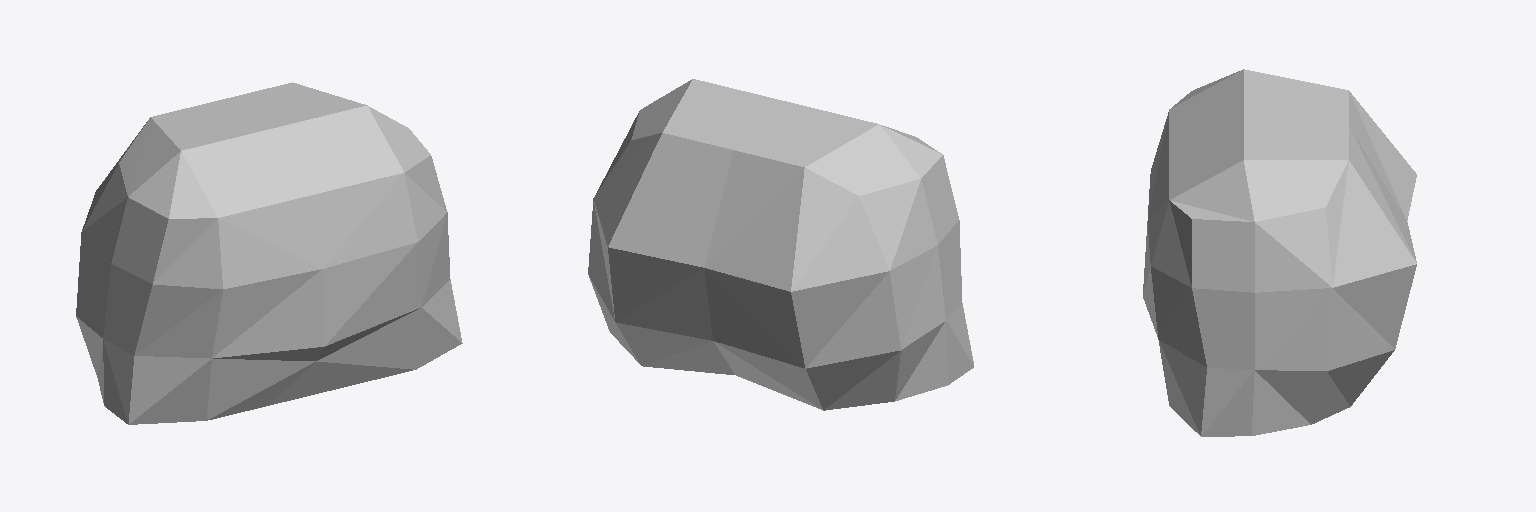
The model's file is bodyunder.obj.
3 views of the same model, side by side, from view 1: azimuth 30°, elevation 25°; view 2: azimuth 150°, elevation 25°; view 3: azimuth 270°, elevation 25° (orthographic).
Parts seen in each view (by area): view 1: pCube6; view 2: pCube6; view 3: pCube6.
Boxes of the visible parts, box(x1,y1,x2,y2) form: pCube6: box(76, 82, 462, 424); pCube6: box(588, 79, 973, 410); pCube6: box(1143, 69, 1416, 436).
Bounding box in the file's own units: 9.78 × 7.9 × 6.96.